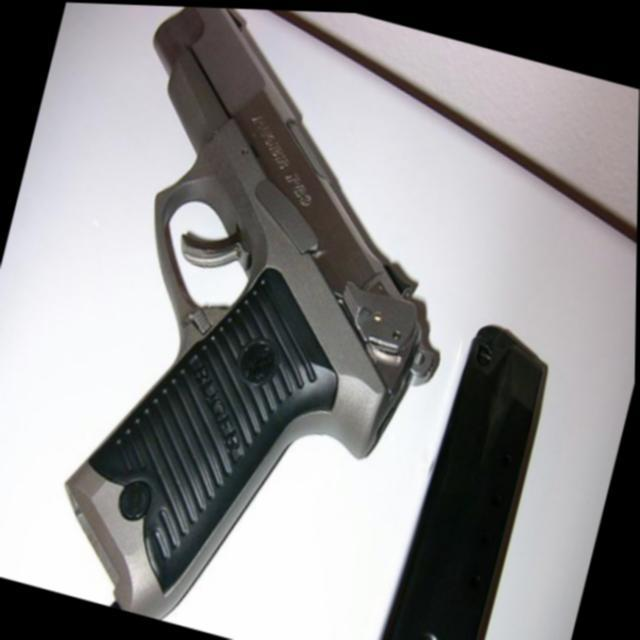weapon: (18, 1, 513, 640)
